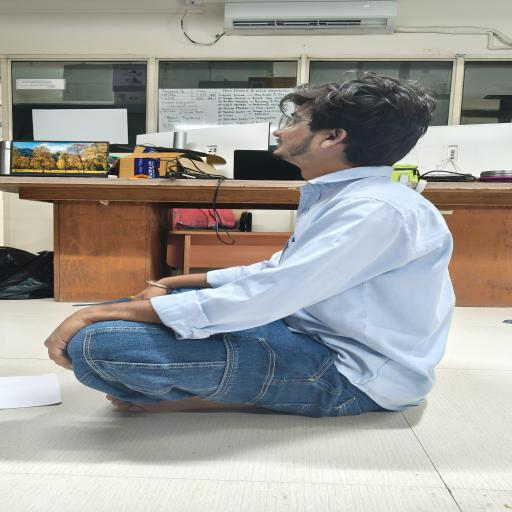survivor: (42, 70, 456, 418)
